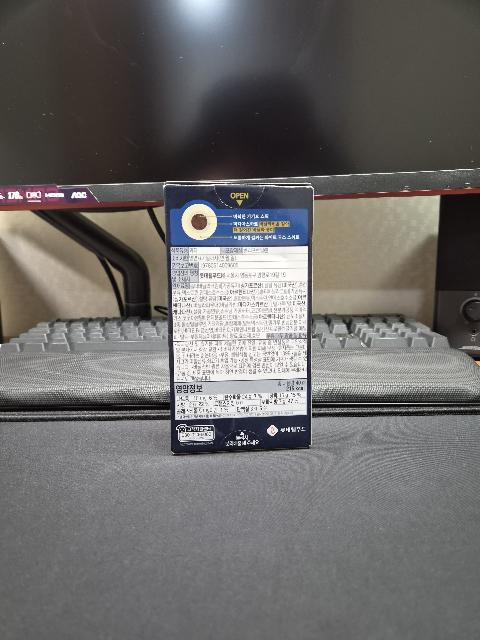pepero: (163, 181, 314, 454)
